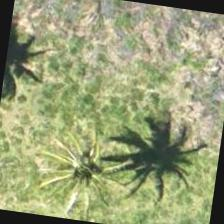Kelapa_Sawit: (88, 107, 190, 209)
